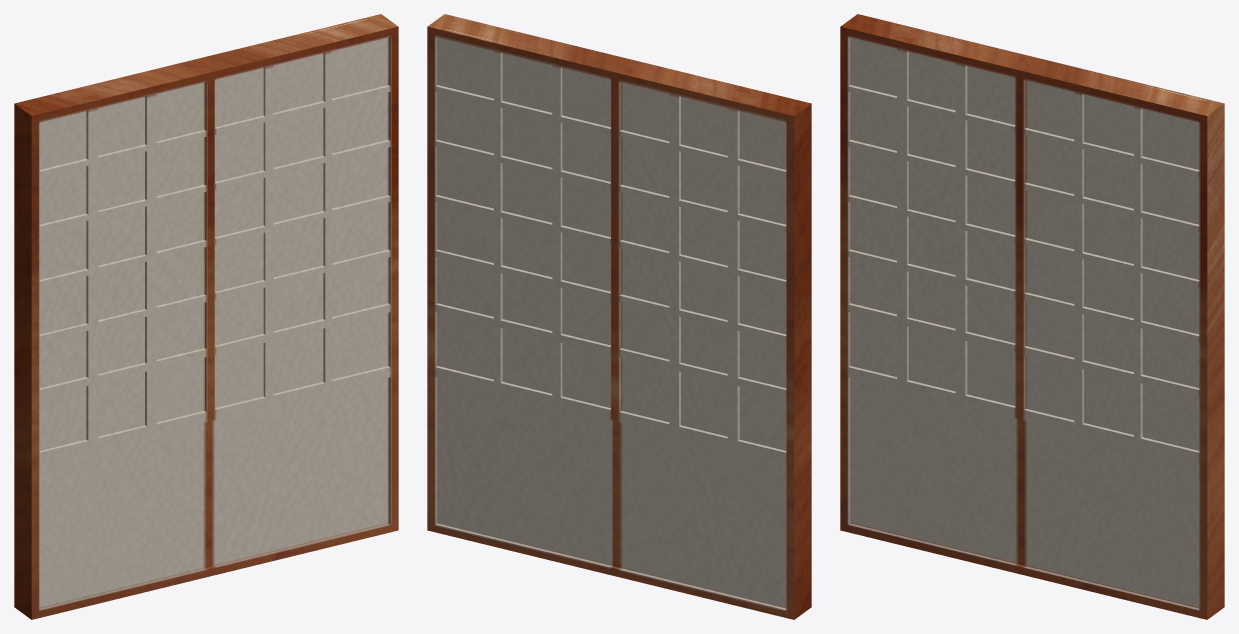
Rendered from NNJ0510004.fbx.
The picture shows the model from 3 angles, left to right: view 1: azimuth 30°, elevation 25°; view 2: azimuth 150°, elevation 25°; view 3: azimuth 330°, elevation 25°; orthographic projection.
Visible parts, largest first — view 1: smNNJ0510004; view 2: smNNJ0510004; view 3: smNNJ0510004.
Part boxes in pixels (box(x1,y1,x2,y2)): smNNJ0510004: box(14, 14, 398, 619); smNNJ0510004: box(427, 14, 811, 619); smNNJ0510004: box(840, 14, 1224, 619).
Bounding box in the file's own units: 222 × 291 × 18.09.
1 material, 1 textured.
